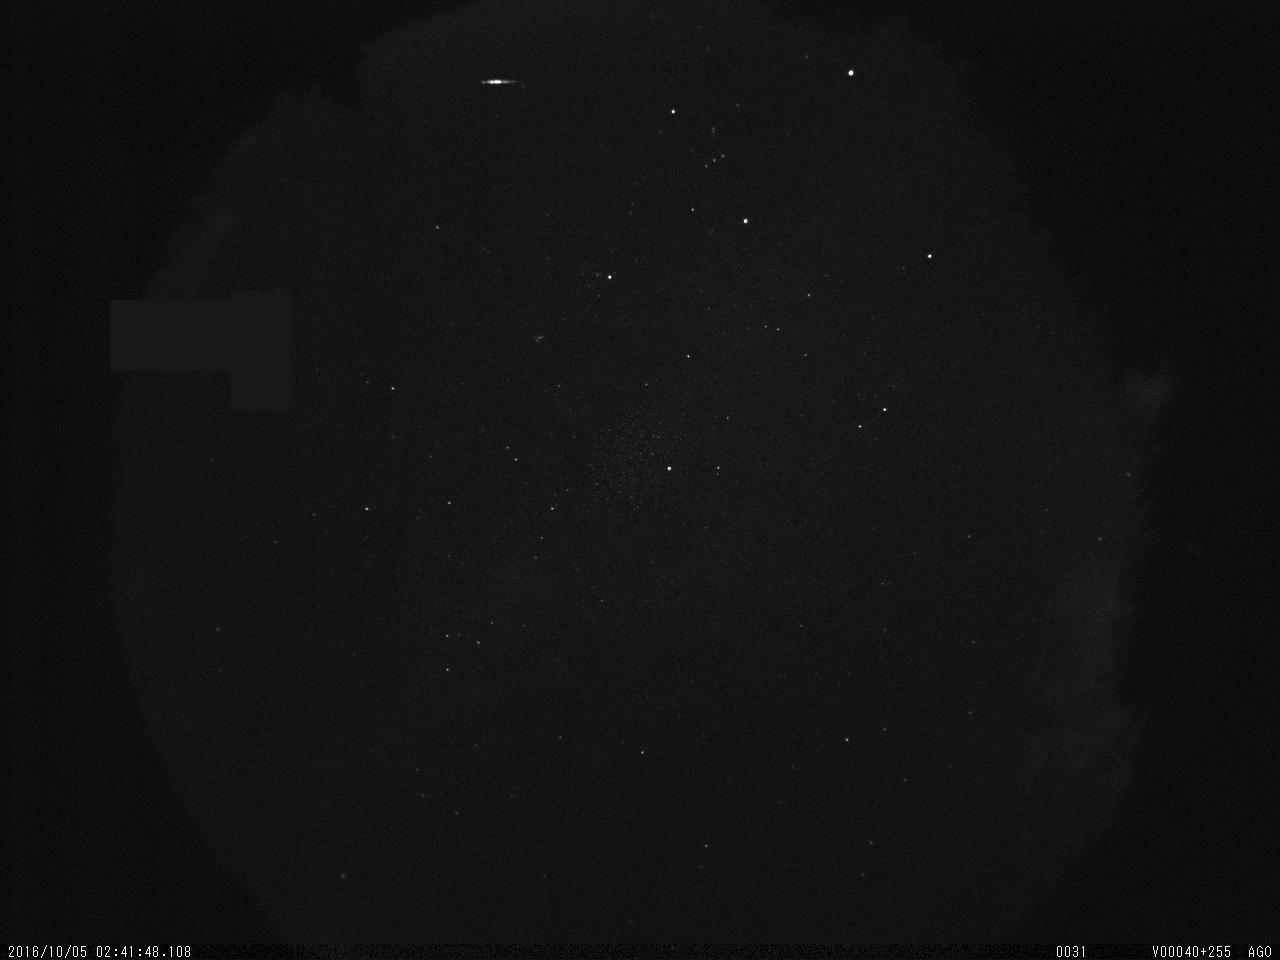Meteor: (476, 63, 524, 96)
